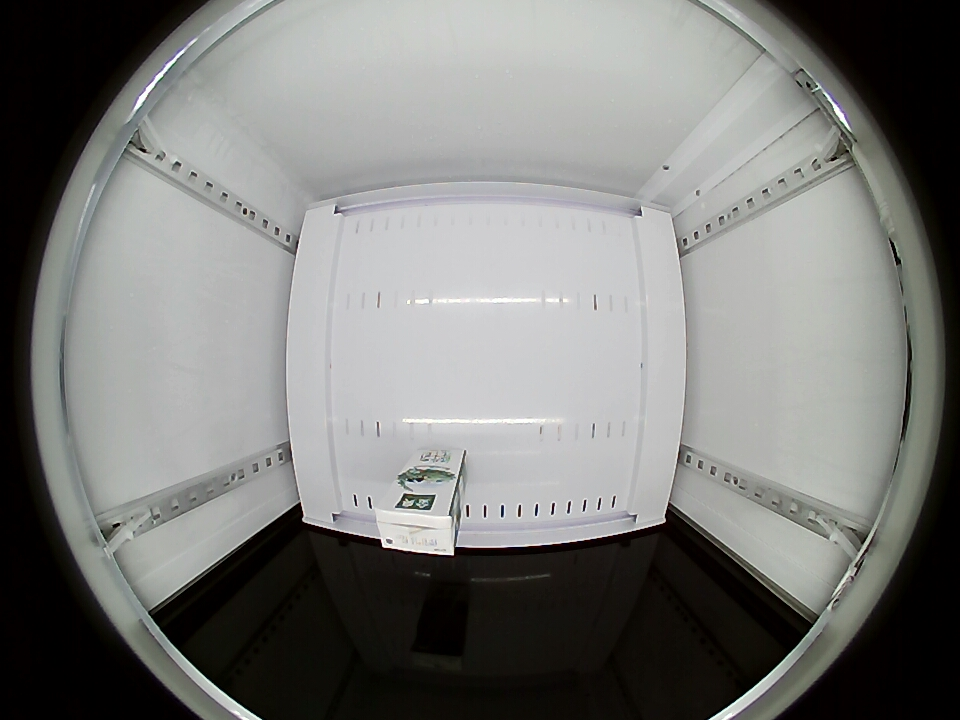jindian: (375, 485, 460, 555)
